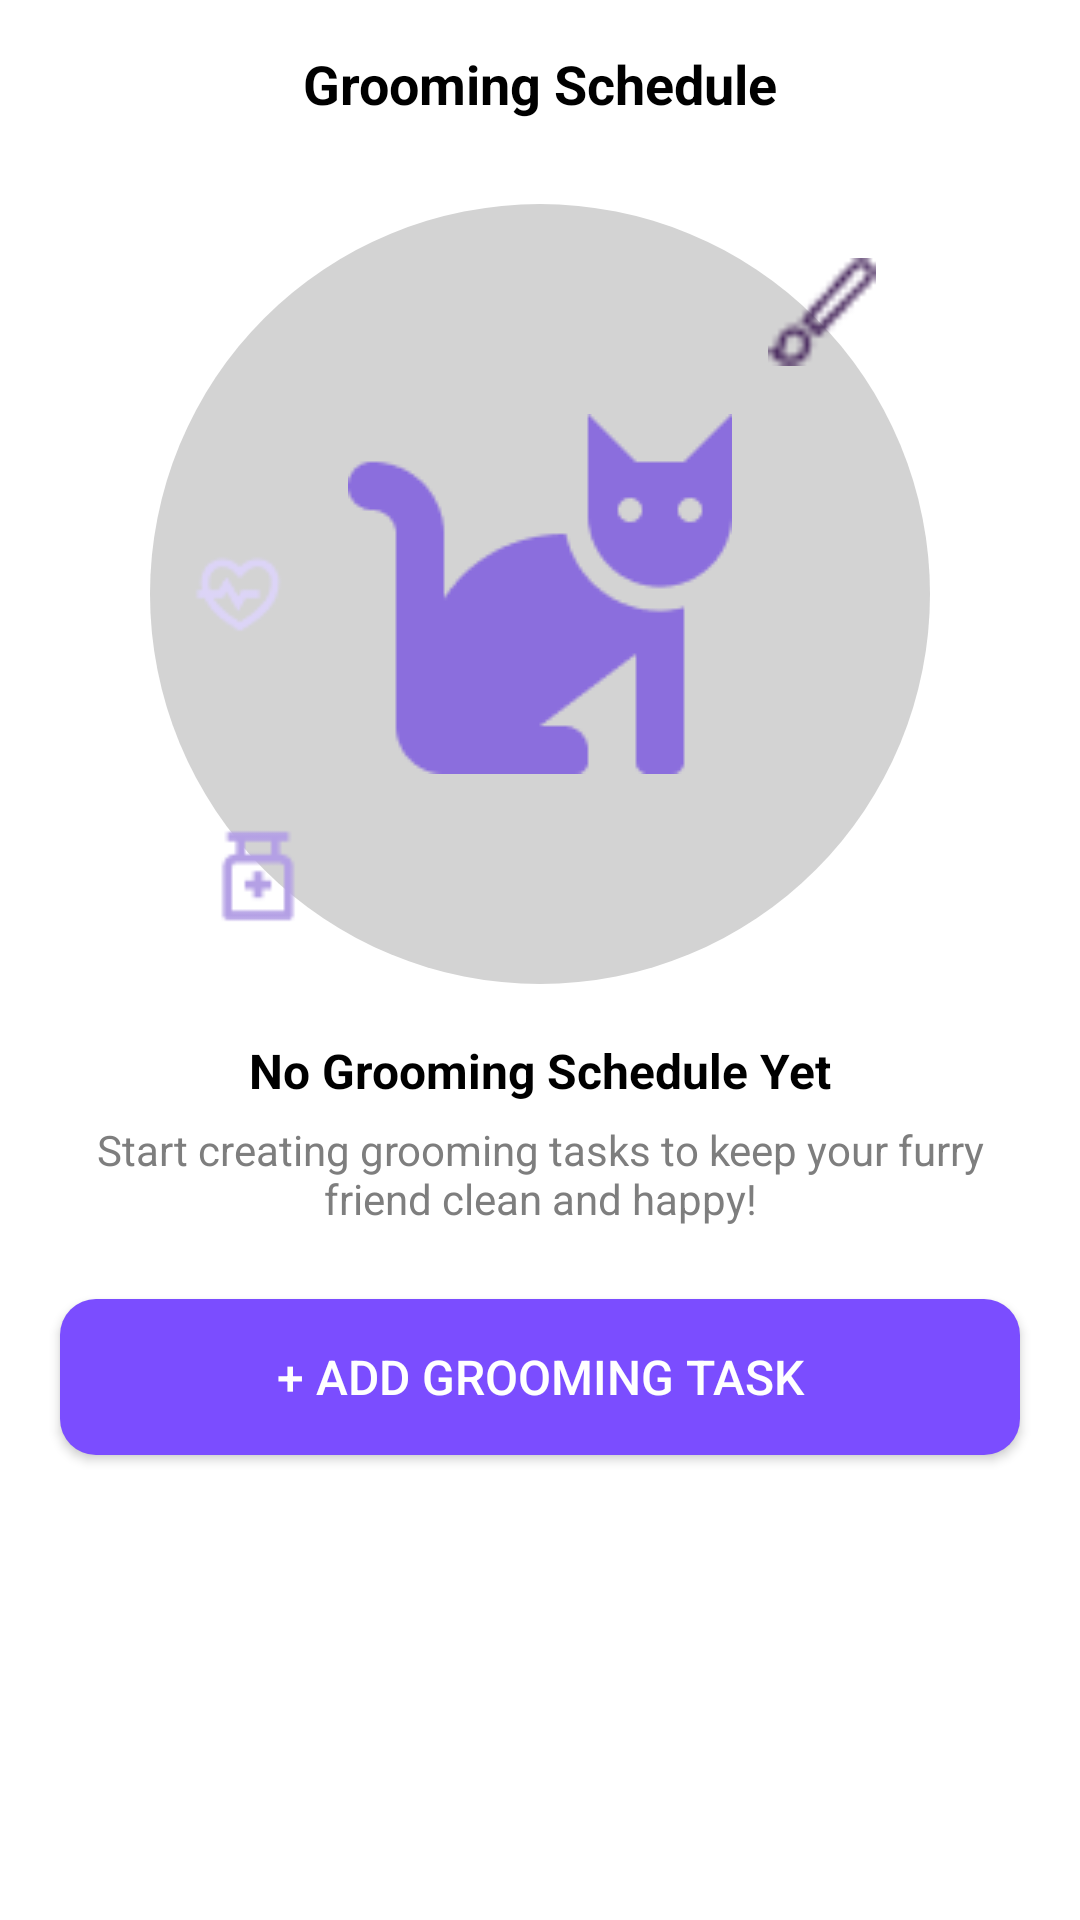

Point at icon controls on the screen. Image size 1080 x 1920, points as point (x, y).
Bottle: point (258, 876)
Brush: point (822, 312)
Heart: point (238, 595)
